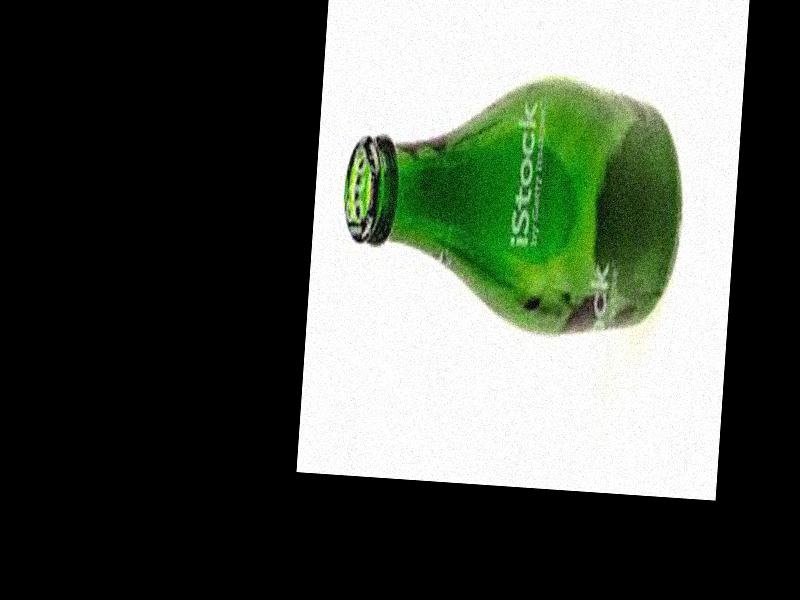Beer: (334, 63, 690, 344)
